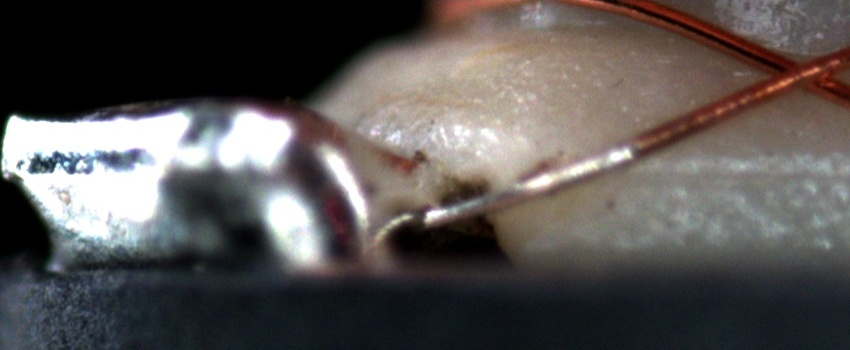CL: (747, 43, 841, 101)
DL: (640, 139, 850, 201)
TS: (425, 141, 636, 227)
